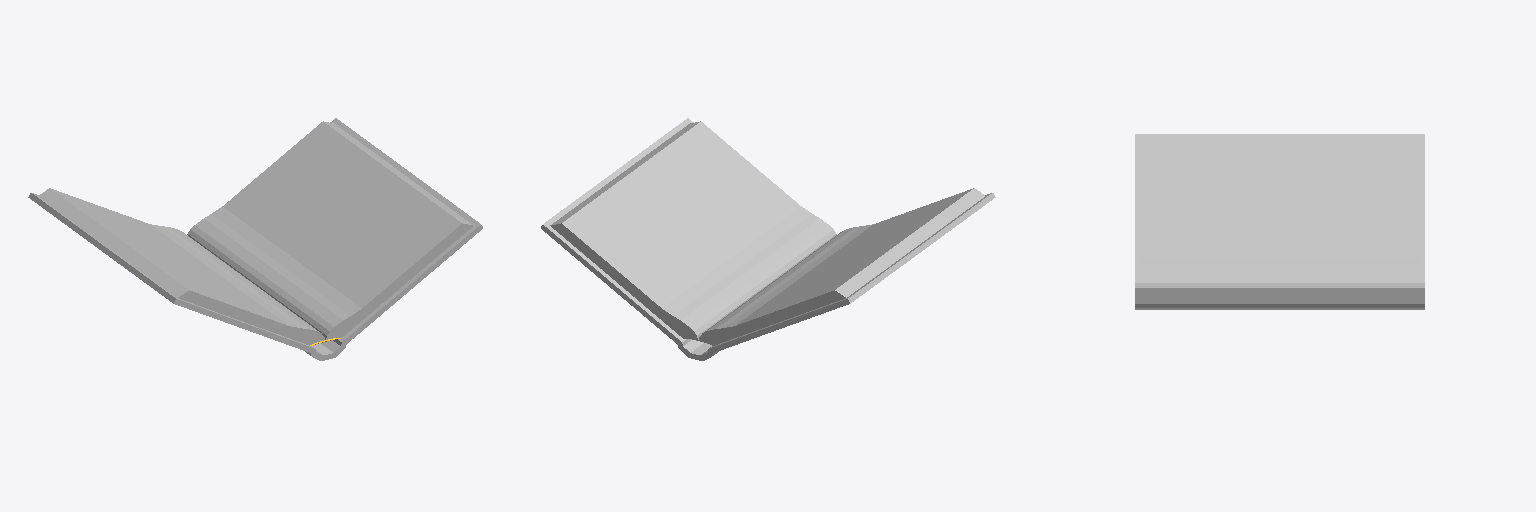
Rendered from book30.obj.
3 renders of one model, left to right at view 1: azimuth 30°, elevation 25°; view 2: azimuth 150°, elevation 25°; view 3: azimuth 270°, elevation 25°, orthographic.
Visible parts, largest first — view 1: 1_Paper, 00_Cover; view 2: 1_Paper, 00_Cover; view 3: 1_Paper, 00_Cover.
Part boxes in pixels (left/top/right/bottom): 1_Paper: left=39, top=121, right=473, bottom=345; 00_Cover: left=28, top=118, right=482, bottom=360; 1_Paper: left=550, top=121, right=984, bottom=345; 00_Cover: left=541, top=118, right=995, bottom=360; 1_Paper: left=1140, top=139, right=1418, bottom=282; 00_Cover: left=1135, top=134, right=1424, bottom=309.
Size of the model in its own units: 123 by 38.19 by 100.